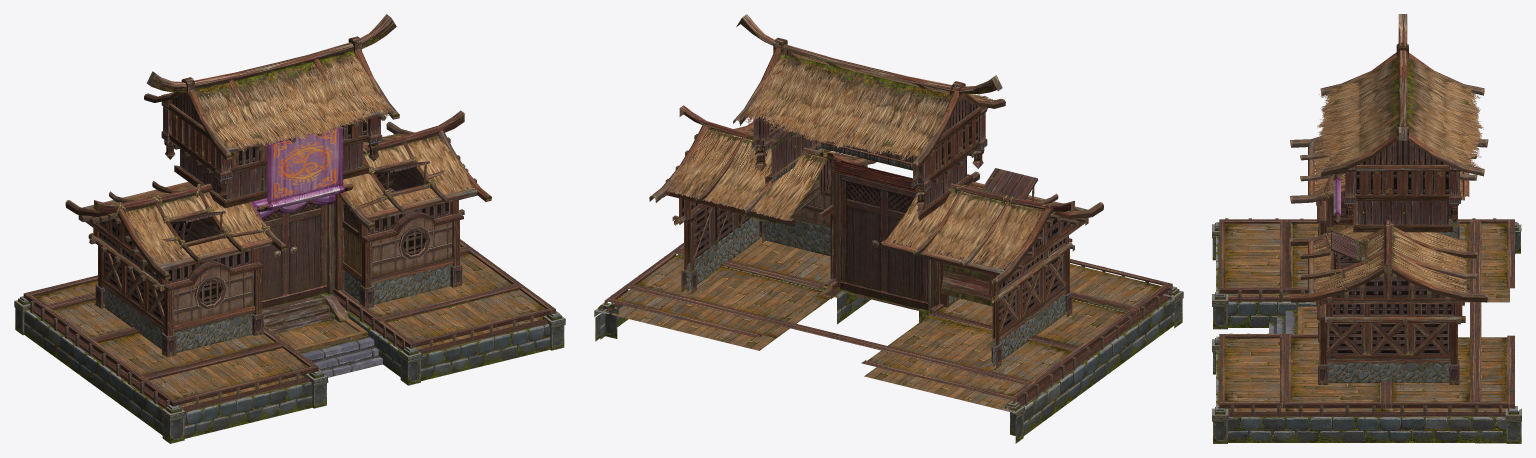
Rendered from 1004_Item_caofang_3.FBX.
The picture shows the model from 3 angles, left to right: view 1: azimuth 30°, elevation 25°; view 2: azimuth 150°, elevation 25°; view 3: azimuth 270°, elevation 25°; orthographic projection. The views are drawn at different scales.
Parts seen in each view (by area): view 1: 1004_Item_caofang_3; view 2: 1004_Item_caofang_3; view 3: 1004_Item_caofang_3.
Part boxes in pixels (<box>): 1004_Item_caofang_3: <box>14,14,565,443</box>; 1004_Item_caofang_3: <box>594,14,1183,443</box>; 1004_Item_caofang_3: <box>1212,14,1521,443</box>.
Bounding box in the file's own units: 1110 × 760 × 754.
